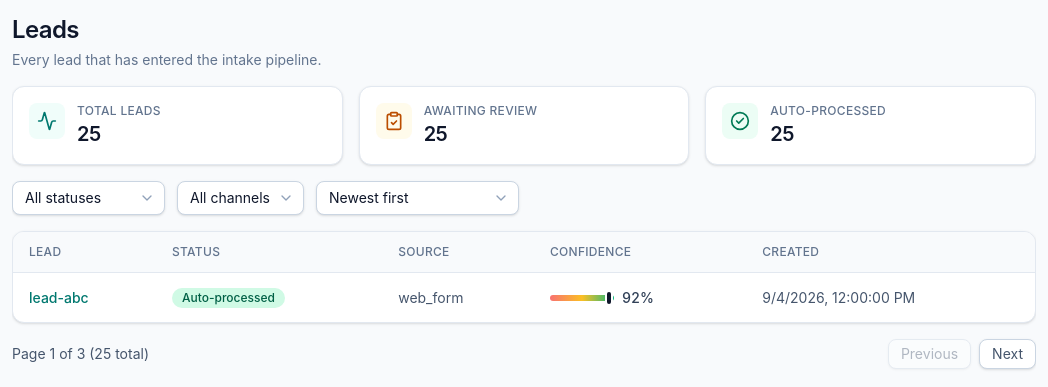
Test: LeadListPage › paginates forward and back, disabling Previous on the first page
expect the link "lead-abc" is shown: met, box [29, 288, 89, 306]
expect the text "Page 1 of 3 (25 total)" is shown: met, box [12, 344, 149, 364]
Click the button "Next".
click(1008, 354)  # box [979, 339, 1036, 369]
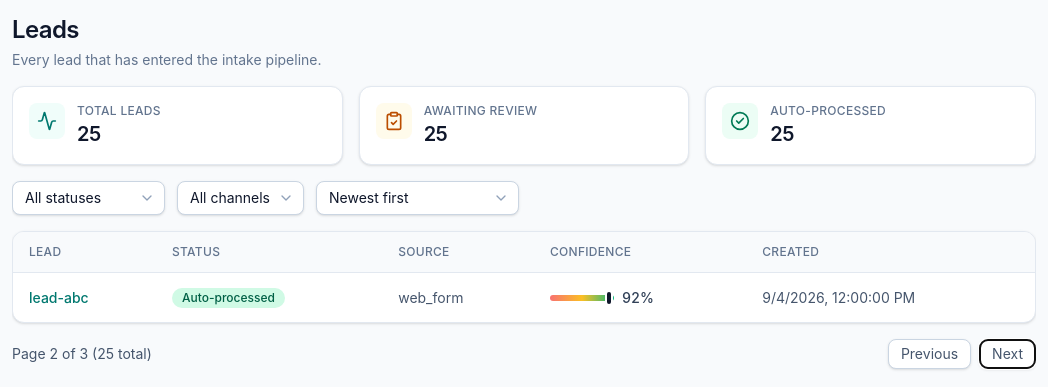
expect the text "Page 2 of 3 (25 total)" is shown: met, box [12, 344, 152, 364]
expect the button "Previous" is enabled: met
Click the button "Previous".
click(930, 354)  # box [888, 339, 971, 369]
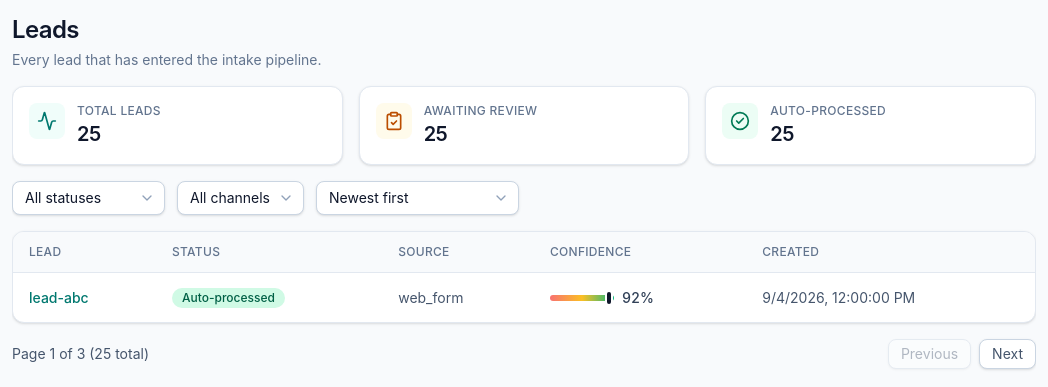
expect the text "Page 1 of 3 (25 total)" is shown: met, box [12, 344, 149, 364]
expect the button "Previous" is disabled: met, box [888, 339, 971, 369]
